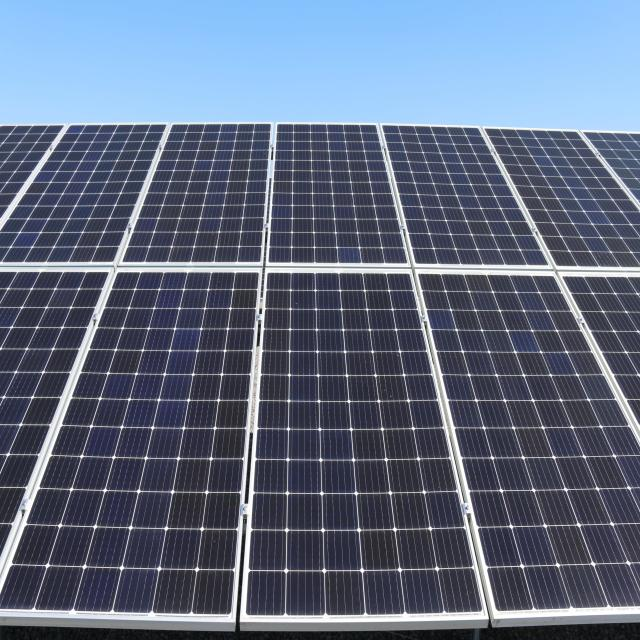clean-solar-panel: (0, 124, 640, 630)
